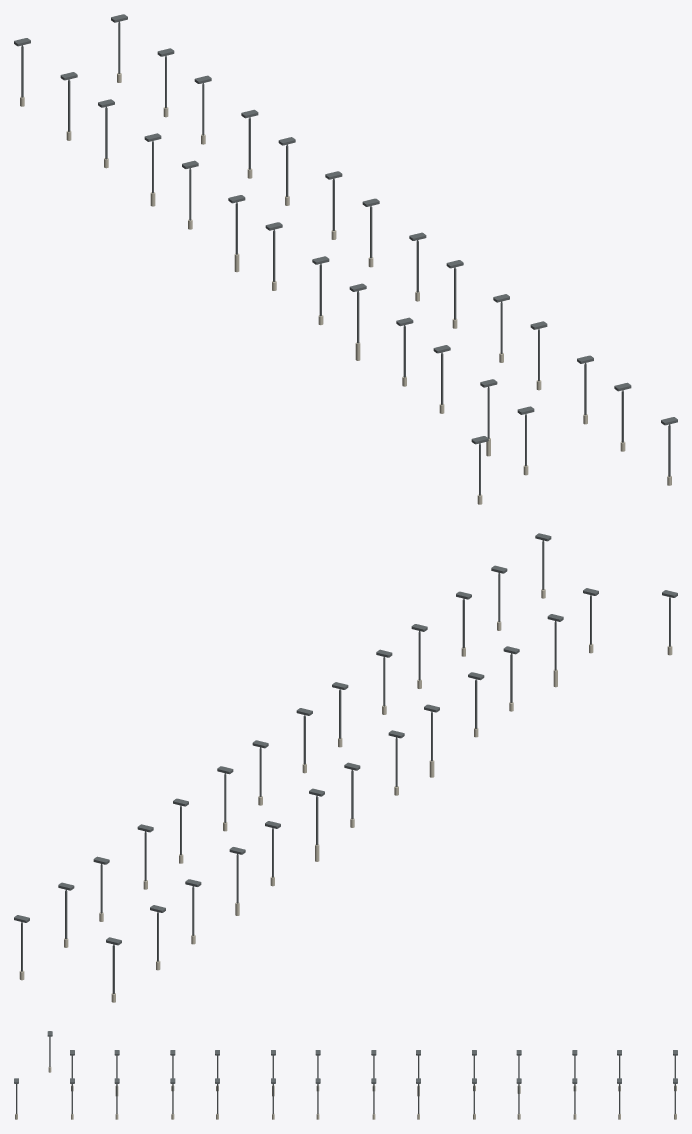
3 views of the same model, one above another, from view 1: azimuth 30°, elevation 25°; view 2: azimuth 150°, elevation 25°; view 3: azimuth 270°, elevation 25° (orthographic). The views are drawn at different scales.
Visible parts, largest first — view 1: buildings_s_-4_3_Dark_Metal, buildings_s_-4_3_Warm_Limestone; view 2: buildings_s_-4_3_Dark_Metal, buildings_s_-4_3_Warm_Limestone; view 3: buildings_s_-4_3_Dark_Metal, buildings_s_-4_3_Warm_Limestone.
Boxes of the visible parts, bbox=[...] form: buildings_s_-4_3_Dark_Metal: bbox=[14, 14, 677, 495]; buildings_s_-4_3_Warm_Limestone: bbox=[20, 73, 671, 504]; buildings_s_-4_3_Dark_Metal: bbox=[14, 533, 677, 993]; buildings_s_-4_3_Warm_Limestone: bbox=[19, 589, 672, 1002]; buildings_s_-4_3_Dark_Metal: bbox=[14, 1031, 677, 1114]; buildings_s_-4_3_Warm_Limestone: bbox=[15, 1067, 676, 1119].
Bounding box in the file's own units: 21.7 × 8.68 × 119.
